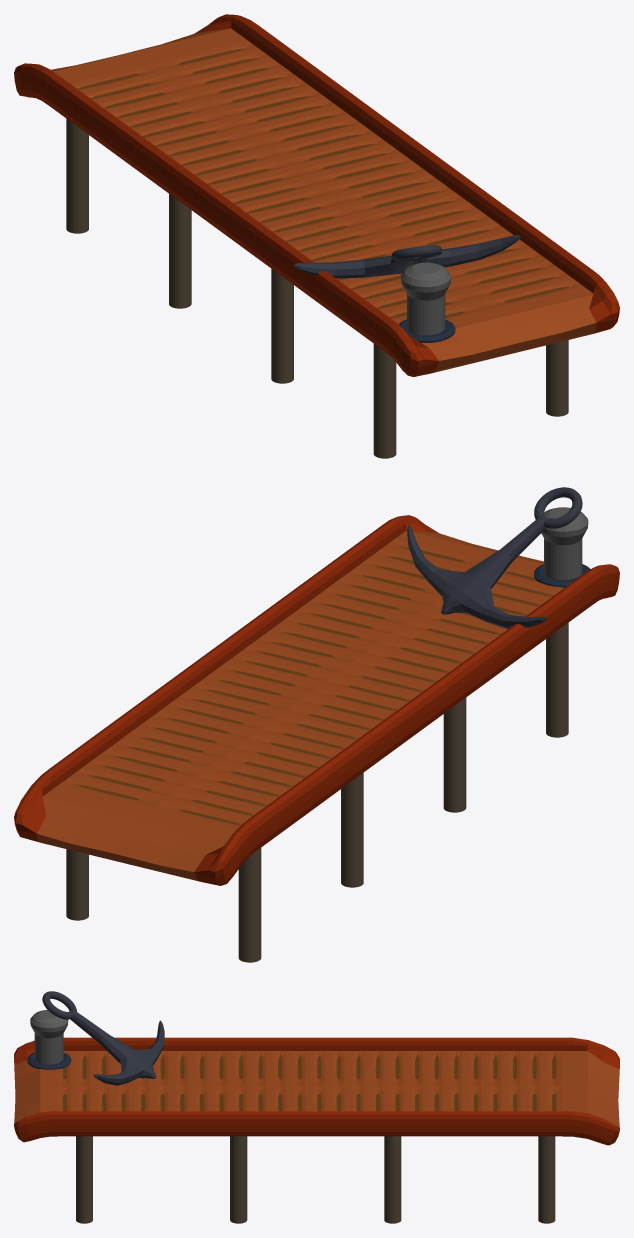
File: HARBOUR.fbx
3 renders of one model, top to bottom at view 1: azimuth 30°, elevation 25°; view 2: azimuth 150°, elevation 25°; view 3: azimuth 270°, elevation 25°, orthographic. The views are drawn at different scales.
Visible parts, largest first — view 1: Cube, Cylinder, Cube.001, Cylinder.001; view 2: Cube, Cylinder, Cube.001, Cylinder.001; view 3: Cube, Cylinder, Cube.001, Cylinder.001.
Boxes of the visible parts, left/top/right/bottom form: Cube: left=14, top=14, right=619, bottom=376; Cylinder: left=66, top=119, right=568, bottom=458; Cube.001: left=294, top=235, right=521, bottom=278; Cylinder.001: left=399, top=262, right=455, bottom=342; Cube: left=14, top=515, right=619, bottom=885; Cylinder: left=66, top=623, right=568, bottom=962; Cube.001: left=407, top=487, right=582, bottom=628; Cylinder.001: left=534, top=507, right=590, bottom=587; Cube: left=14, top=1037, right=619, bottom=1145; Cylinder: left=76, top=1136, right=555, bottom=1223; Cube.001: left=42, top=991, right=164, bottom=1085; Cylinder.001: left=27, top=1009, right=71, bottom=1069.
Bounding box in the file's own units: 2425 × 2202 × 7221.
